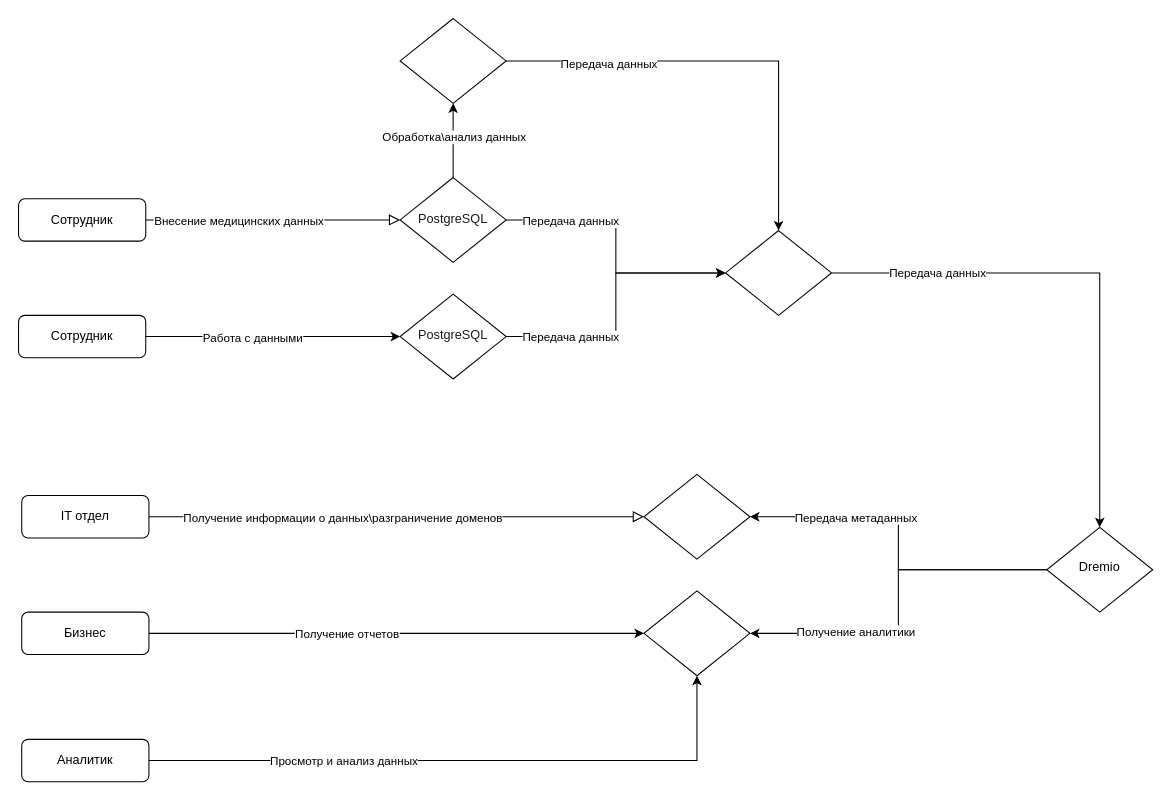
Image size: 1171x800. Some labels were removed from this diagram. The box of each missing label's shape, as (x1, y1, x2, y2) in pixels:
AI сервис: (399, 17, 506, 103)
DataHub: (643, 473, 750, 559)
DLH: (725, 229, 832, 315)
Power BI: (643, 590, 750, 676)
